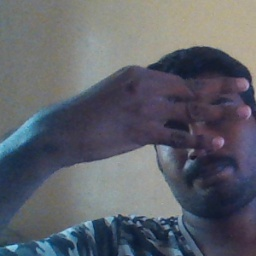K: (67, 64, 252, 154)
